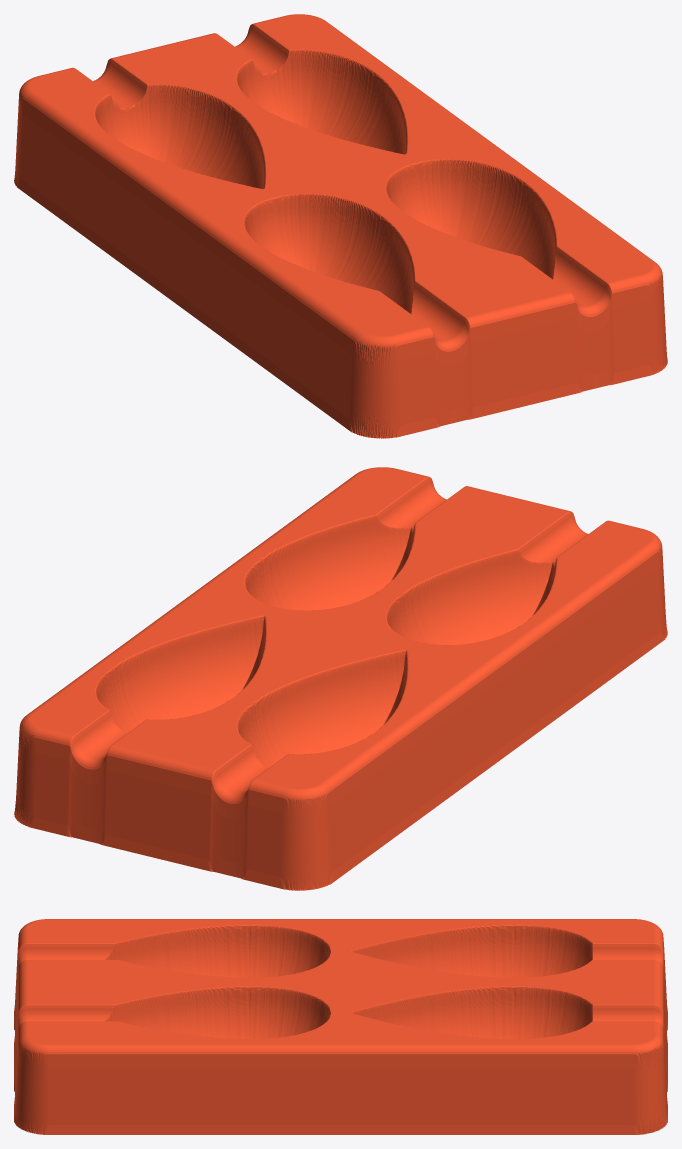
The model's file is mold.glb.
The picture shows the model from 3 angles, top to bottom: view 1: azimuth 30°, elevation 25°; view 2: azimuth 150°, elevation 25°; view 3: azimuth 270°, elevation 25°; orthographic projection. The views are drawn at different scales.
Visible parts, largest first — view 1: geometry_0; view 2: geometry_0; view 3: geometry_0.
Boxes of the visible parts, x1=… form: geometry_0: x1=14, y1=14, x2=667, y2=438; geometry_0: x1=14, y1=467, x2=667, y2=890; geometry_0: x1=14, y1=919, x2=667, y2=1134.
Size of the model in its own units: 0.0842 by 0.0245 by 0.171.
